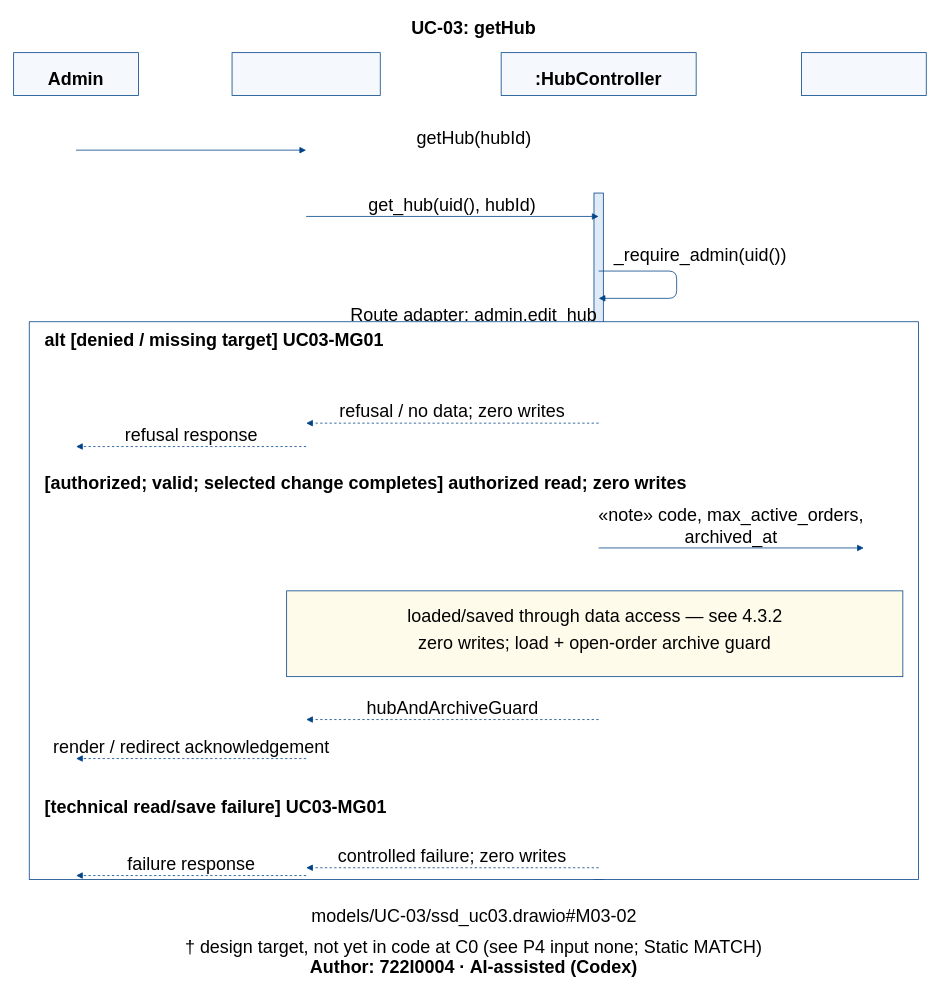
The diagram is 940 pixels wide and 991 high, and some of its shapes have lost their labels. The shapes that lost their labels are listed below. From the top down, each one's centre as x and y in pixels, then its label:
the point at 305,74: «view» admin
the point at 863,74: :Hub
